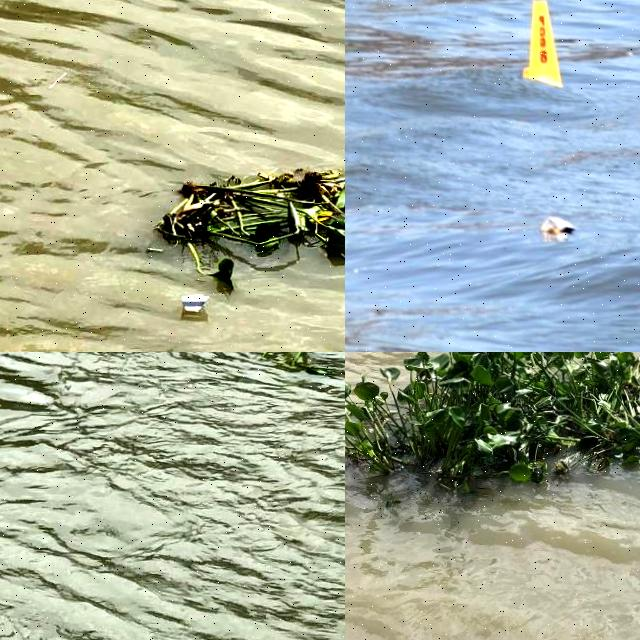water-hyacinth: (346, 353, 640, 501), (156, 157, 346, 289)
